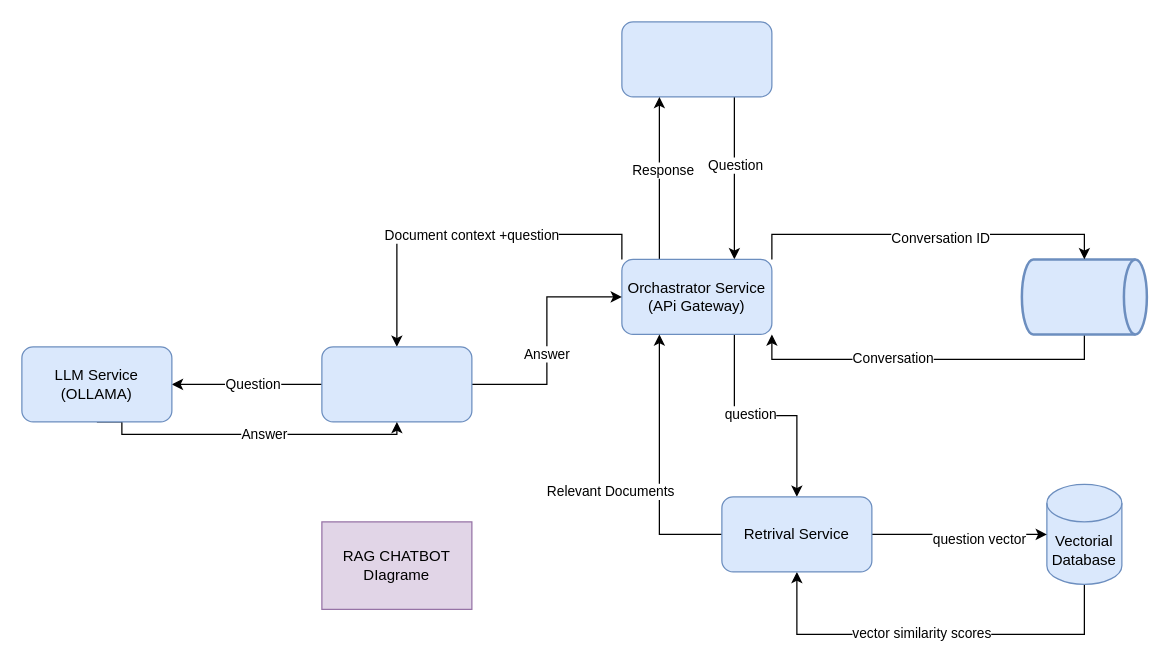
Image size: 1170x666. Some labels were removed from this diagram. Each missing label, with the centre of its shape:
"AI Service" belongs at (x=396, y=384).
"Redis Service" belongs at (x=1084, y=296).
"UI Service" belongs at (x=696, y=59).
